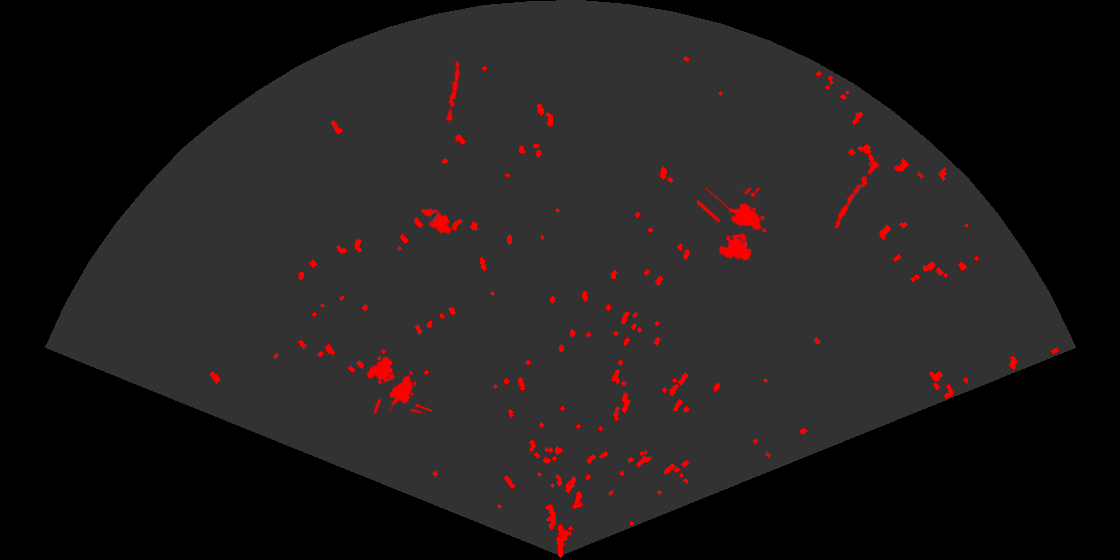AUV: (419, 207, 453, 236)
cage: (697, 188, 768, 262), (364, 355, 432, 413)
chain: (833, 151, 884, 230), (444, 59, 462, 124)
